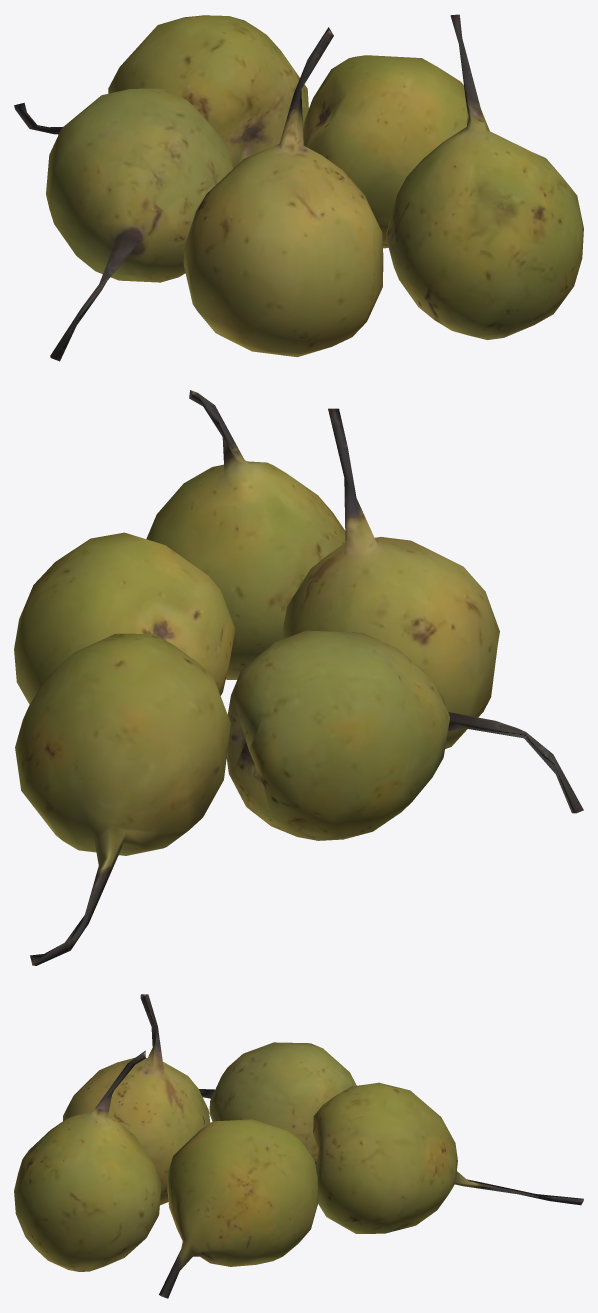
File: food_pears_asian_01.glb
3 renders of one model, top to bottom at view 1: azimuth 30°, elevation 25°; view 2: azimuth 150°, elevation 25°; view 3: azimuth 270°, elevation 25°, orthographic. The views are drawn at different scales.
Parts seen in each view (by area): view 1: food_pears_asian_01_b; view 2: food_pears_asian_01_b; view 3: food_pears_asian_01_b.
Part boxes in pixels (left/top/right/bottom): food_pears_asian_01_b: left=14, top=14, right=583, bottom=361; food_pears_asian_01_b: left=14, top=390, right=583, bottom=965; food_pears_asian_01_b: left=14, top=994, right=583, bottom=1298.
Bounding box in the file's own units: 0.126 × 0.0706 × 0.1667.
Materials: 1 (1 with a texture image).
